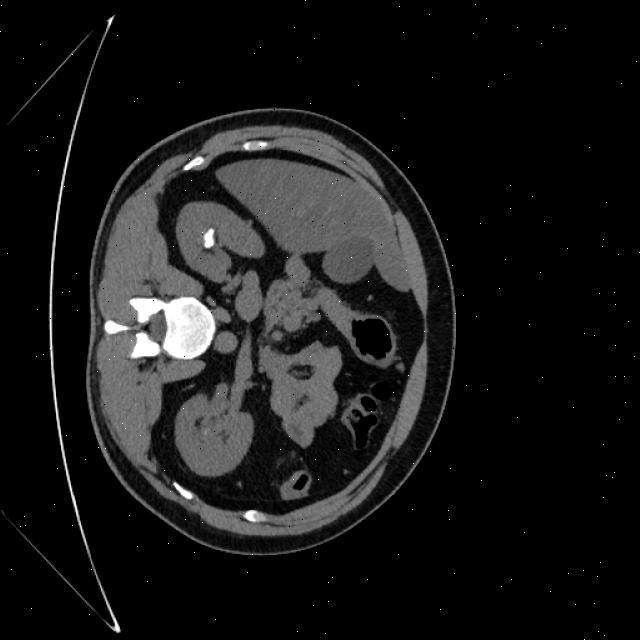kidneystone: (202, 228, 215, 249)
